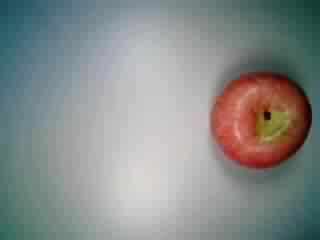apple: (210, 69, 314, 170)
